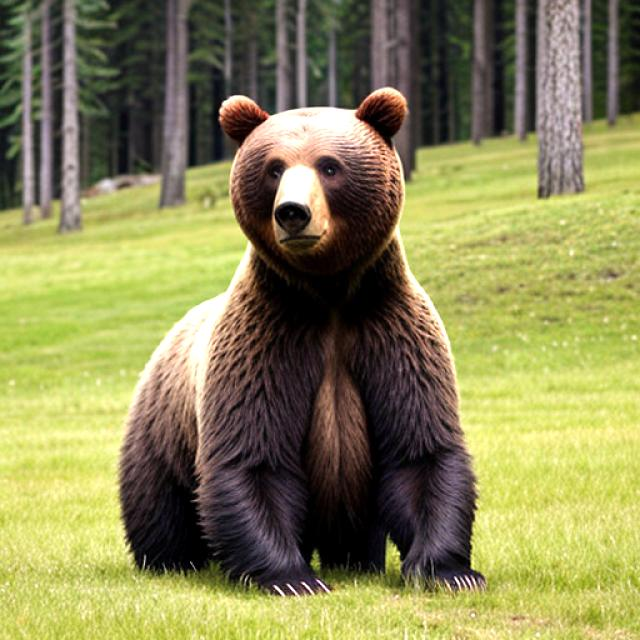bear: (211, 84, 445, 356)
